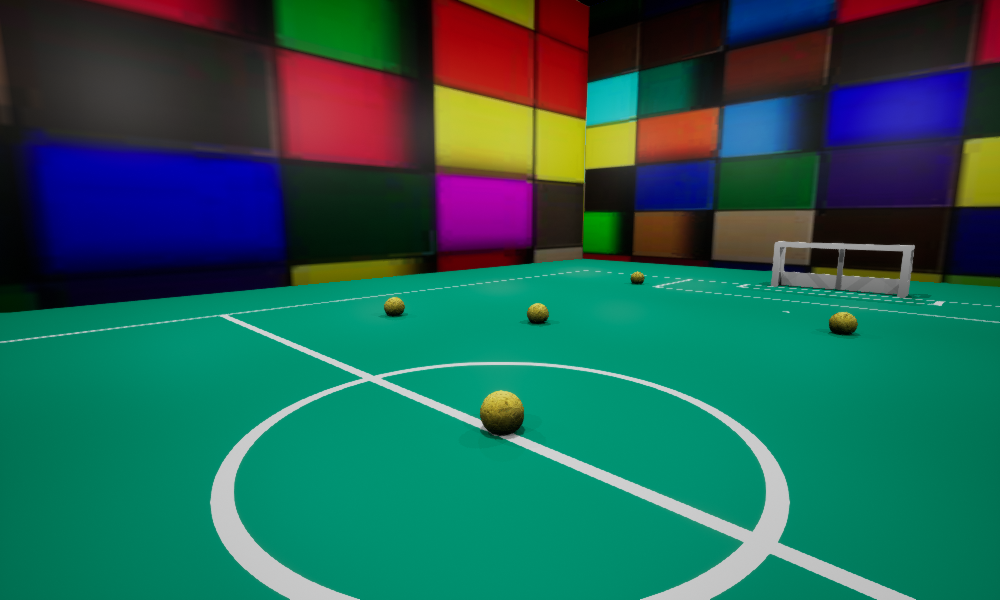b: (480, 390, 523, 433), (829, 312, 857, 334), (527, 303, 548, 323), (384, 297, 404, 315), (630, 271, 644, 283)
g: (771, 241, 914, 297)
